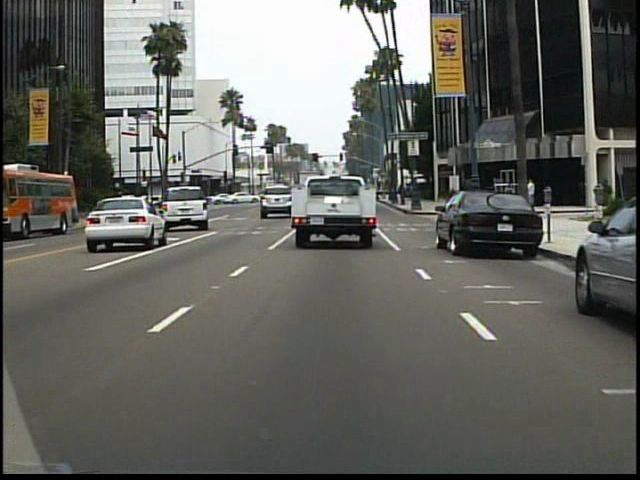person: (527, 177, 538, 197)
